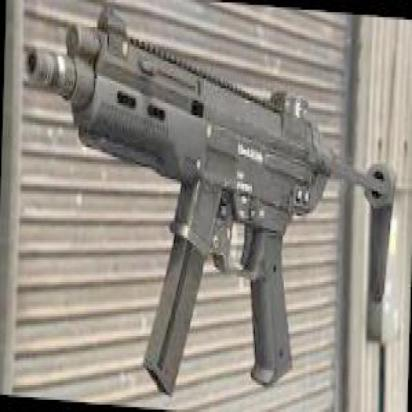Gun: (31, 35, 384, 395)
